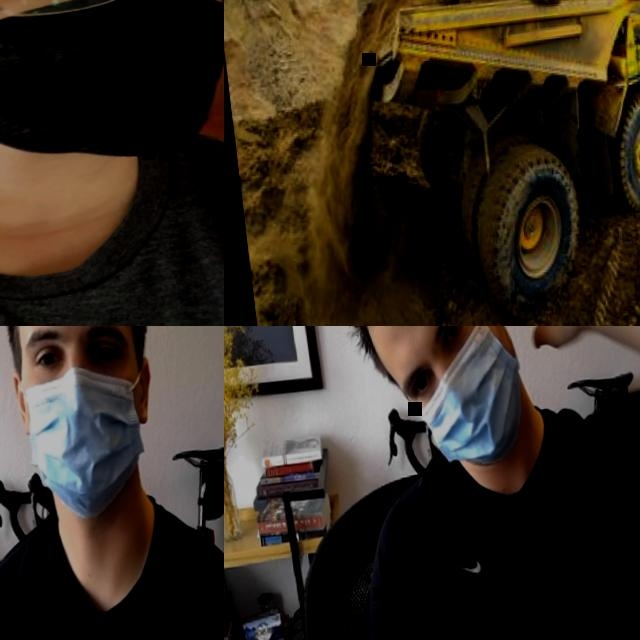Mask: (0, 0, 224, 184), (17, 365, 156, 530), (395, 326, 528, 471)
NO-Safety Vest: (382, 426, 640, 640), (0, 118, 224, 326), (0, 503, 224, 640)
Person: (287, 326, 640, 640), (0, 0, 224, 326), (0, 326, 224, 640)
machinery: (321, 0, 640, 326), (355, 0, 640, 326)
